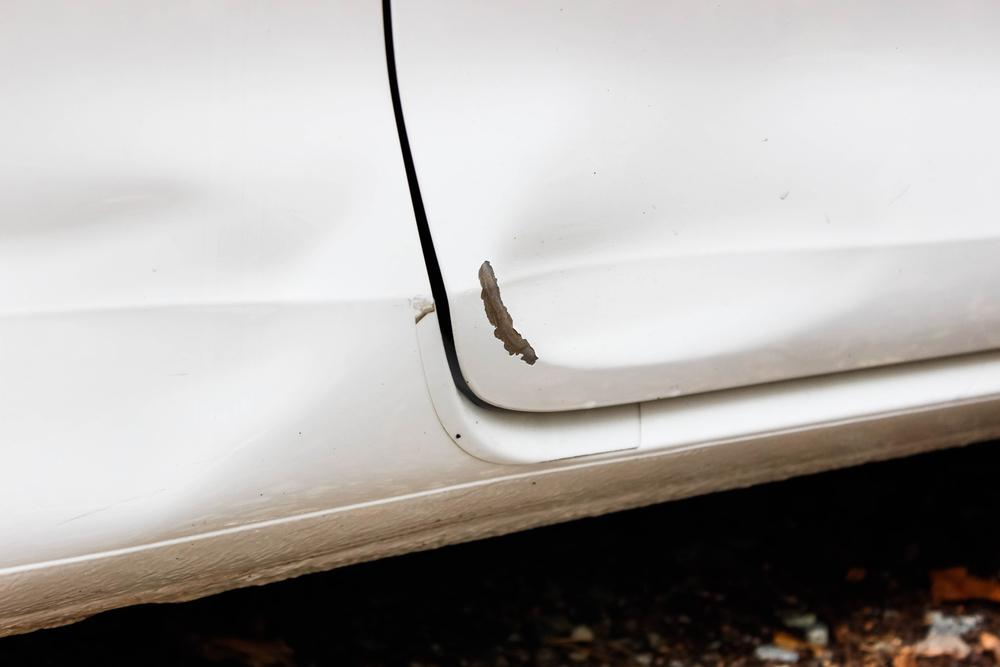dent: (0, 163, 394, 513), (492, 152, 881, 368)
